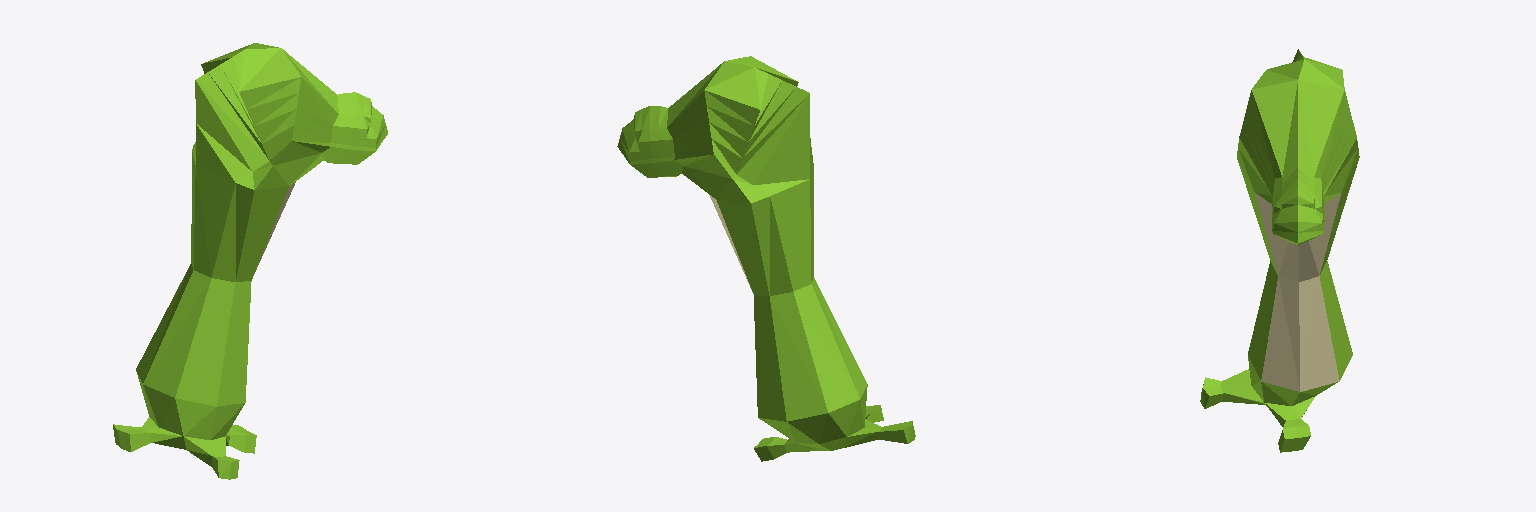
3 renders of one model, left to right at view 1: azimuth 30°, elevation 25°; view 2: azimuth 150°, elevation 25°; view 3: azimuth 270°, elevation 25°, orthographic.
Parts seen in each view (by area): view 1: righthand; view 2: righthand; view 3: righthand.
Part boxes in pixels (bbox=[...]): righthand: bbox=[113, 43, 387, 479]; righthand: bbox=[617, 56, 915, 461]; righthand: bbox=[1200, 49, 1359, 452].
Size of the model in its own units: 0.5165 by 0.6882 by 0.2518.
Materials: 1 (1 with a texture image).